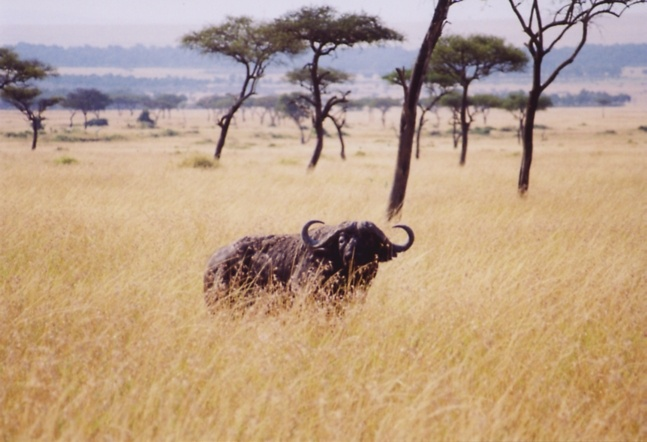buffalo: (201, 218, 413, 314)
